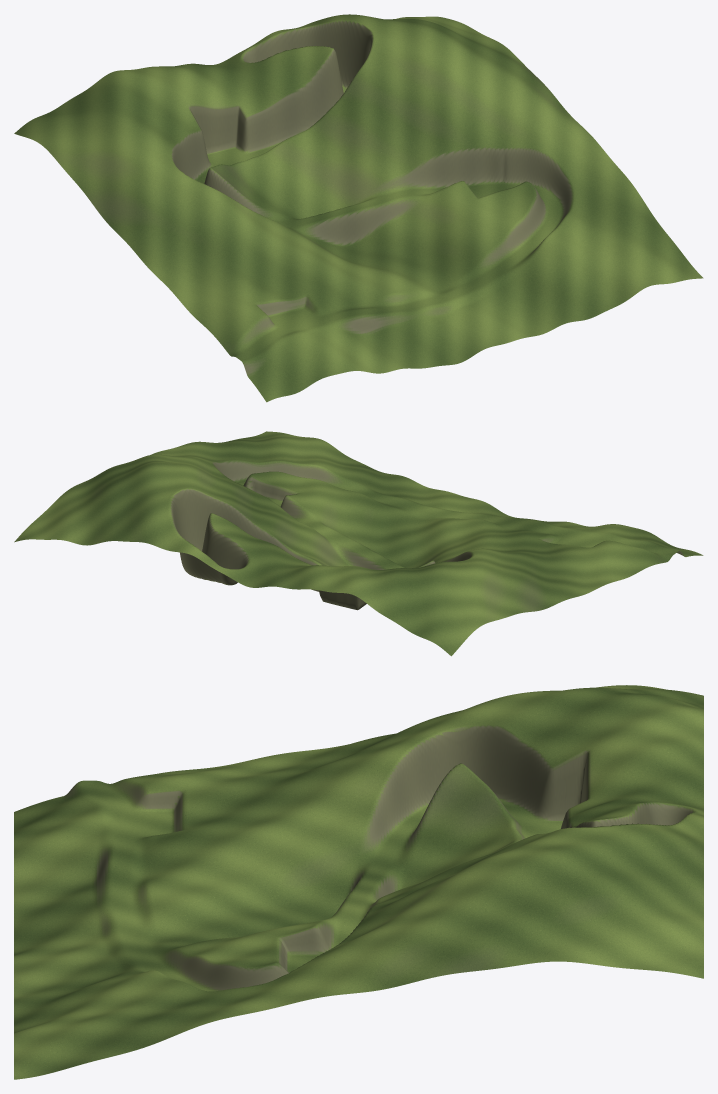
Rendered from terrain.dae.
The picture shows the model from 3 angles, top to bottom: view 1: azimuth 30°, elevation 25°; view 2: azimuth 150°, elevation 25°; view 3: azimuth 270°, elevation 25°; orthographic projection. The views are drawn at different scales.
Visible parts, largest first — view 1: terrain; view 2: terrain; view 3: terrain.
Boxes of the visible parts, left/top/right/bottom form: terrain: left=14, top=14, right=703, bottom=402; terrain: left=14, top=431, right=703, bottom=656; terrain: left=14, top=685, right=703, bottom=1079.
Size of the model in its own units: 1000 by 1000 by 330.
1 material, 1 textured.
